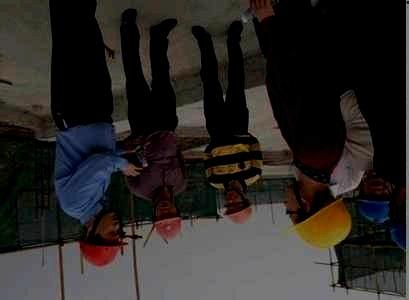helmet: (280, 179, 352, 249), (79, 211, 129, 269), (355, 176, 393, 224), (151, 197, 183, 241), (222, 188, 253, 225), (390, 200, 407, 250)
